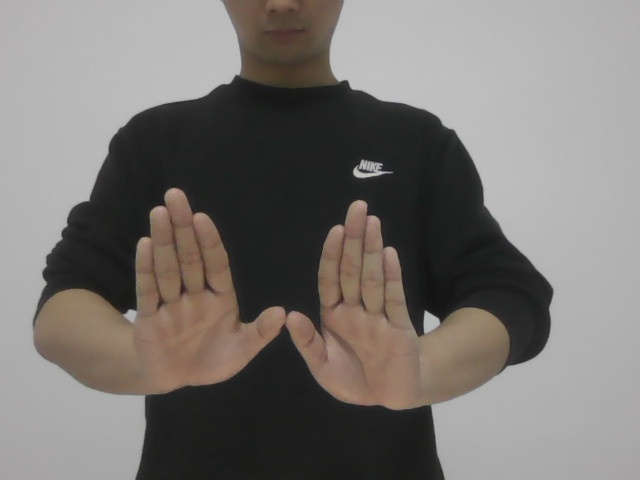door: (125, 177, 429, 423)
